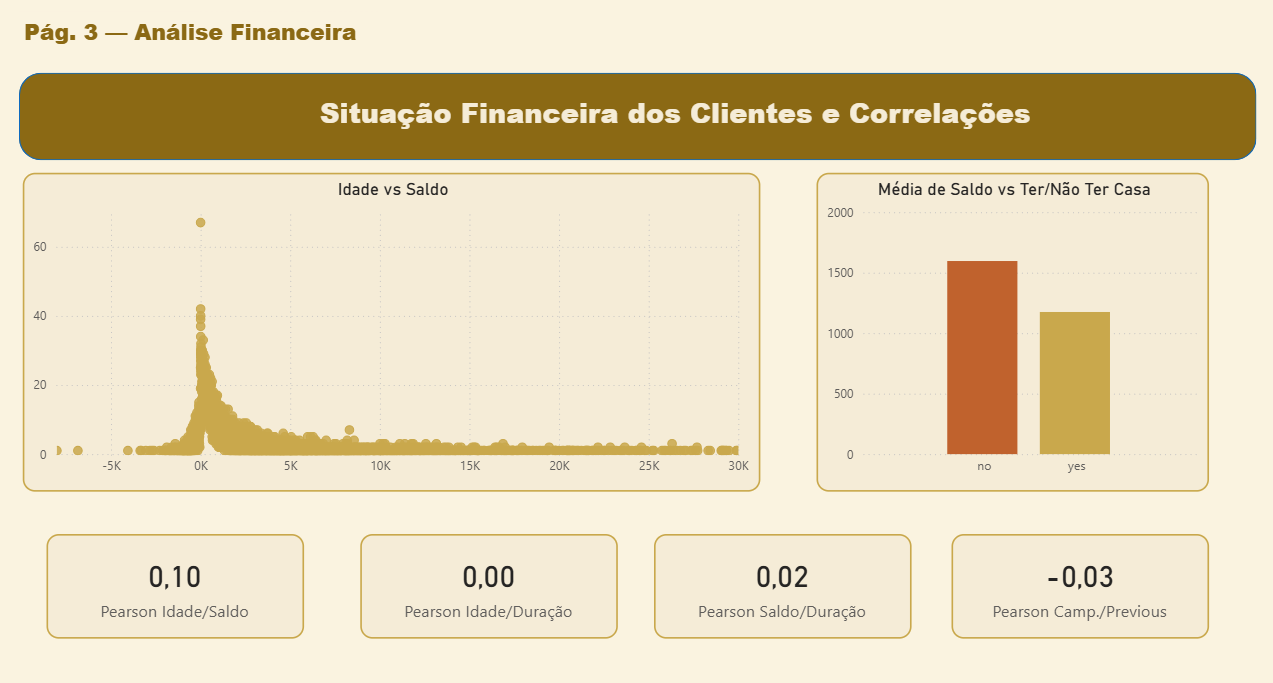

The dashboard page shown, as its layout file describes it:
{"tool":"powerbi","page":{"name":"Page 3","canvas":[1280,720],"ordinal":2},"visuals":[{"type":"textbox","box":[34.2,26.9,352.2,51.4],"z":0},{"type":"shape","title":"ANÁLISE DE CLIENTES BANCÁRIOS","box":[34.2,86.8,1210.6,85.6],"z":1000},{"type":"textbox","box":[302.1,101.5,748.5,57.5],"z":2000},{"type":"scatterChart","title":"Idade vs Saldo","fields":{"X":["bank-full.balance"],"Y":["bank-full.age"]},"box":[37.9,184.7,721.6,311.9],"z":3000},{"type":"columnChart","title":"Média de Saldo vs Ter/Não Ter Casa","fields":{"Category":["bank-full.housing"],"Y":["Avg(bank-full.balance)"]},"box":[814.5,184.7,384,311.9],"z":4000},{"type":"card","fields":{"Values":["Medidas.Pearson_Corr"]},"box":[61.2,538.1,251.9,102.7],"z":5000},{"type":"card","fields":{"Values":["Medidas.Pearson_Corr(Idade_Duração)"]},"box":[368.1,538.1,251.9,102.7],"z":6000},{"type":"card","fields":{"Values":["Medidas.Pearson_Corr(Balanço_Duração)"]},"box":[655.5,538.1,251.9,102.7],"z":7000},{"type":"card","fields":{"Values":["Medidas.Pearson_Corr(Campanha_Previous)"]},"box":[946.6,538.1,251.9,102.7],"z":8000}]}

Visuals, with their boxes on the page's 1280x720 design canvas (x1, y1, x2, y2). These are canvas units, not pixel positions in the 1273x683 screenshot, which may show the page scaled, cropped or inside an application window:
textbox: 34,27,386,78
"ANÁLISE DE CLIENTES BANCÁRIOS" shape: 34,87,1245,172
textbox: 302,102,1051,159
"Idade vs Saldo" scatterChart: 38,185,760,497
"Média de Saldo vs Ter/Não Ter Casa" columnChart: 814,185,1198,497
card - Medidas.Pearson_Corr: 61,538,313,641
card - Medidas.Pearson_Corr(Idade_Duração): 368,538,620,641
card - Medidas.Pearson_Corr(Balanço_Duração): 656,538,907,641
card - Medidas.Pearson_Corr(Campanha_Previous): 947,538,1198,641
